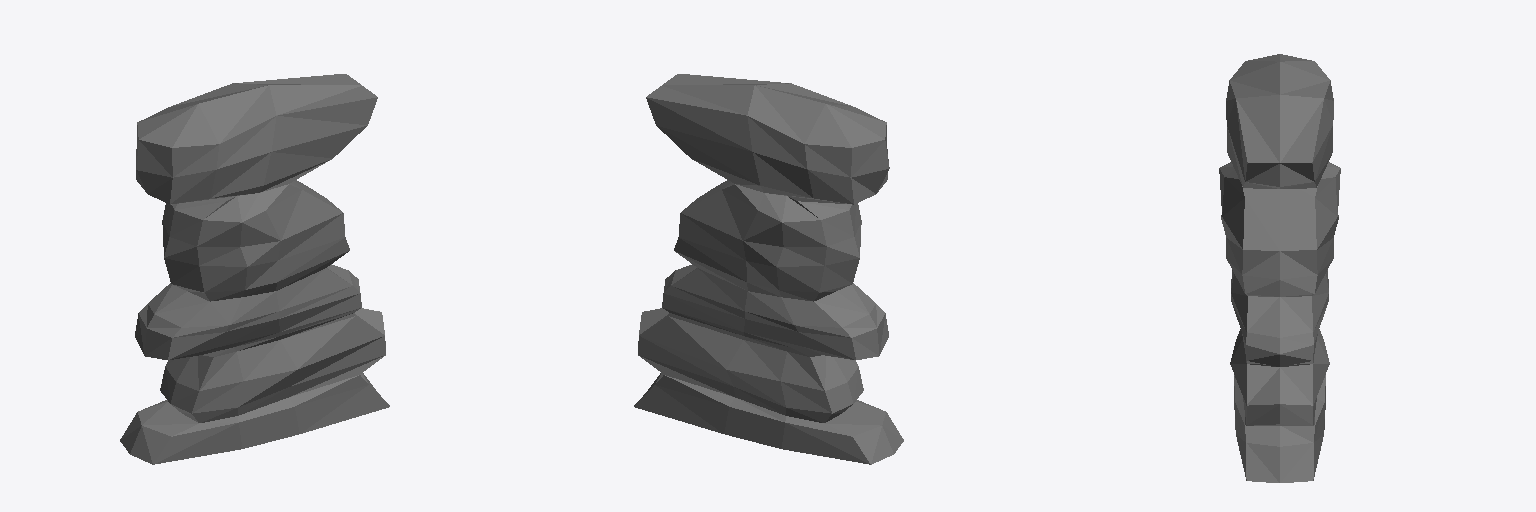
File: StoneFormation.obj
3 renders of one model, left to right at view 1: azimuth 30°, elevation 25°; view 2: azimuth 150°, elevation 25°; view 3: azimuth 270°, elevation 25°, orthographic.
Visible parts, largest first — view 1: StoneFormationLo StoneFormation_top_lo, StoneFormation_body1_lo StoneFormationLo, StoneFormationLo StoneFormationBody3_lo, StoneFormationLo StoneFormation_body2_lo, StoneFormationLo StoneFormationBottomLO; view 2: StoneFormationLo StoneFormation_top_lo, StoneFormation_body1_lo StoneFormationLo, StoneFormationLo StoneFormationBody3_lo, StoneFormationLo StoneFormation_body2_lo, StoneFormationLo StoneFormationBottomLO; view 3: StoneFormationLo StoneFormation_top_lo, StoneFormation_body1_lo StoneFormationLo, StoneFormationLo StoneFormation_body2_lo, StoneFormationLo StoneFormationBody3_lo, StoneFormationLo StoneFormationBottomLO.
Part boxes in pixels (x1,y1,x2,y2): StoneFormationLo StoneFormation_top_lo: (136, 74, 377, 204); StoneFormation_body1_lo StoneFormationLo: (162, 180, 349, 301); StoneFormationLo StoneFormationBody3_lo: (160, 308, 385, 422); StoneFormationLo StoneFormation_body2_lo: (135, 264, 361, 359); StoneFormationLo StoneFormationBottomLO: (120, 373, 389, 464); StoneFormationLo StoneFormation_top_lo: (646, 74, 889, 204); StoneFormation_body1_lo StoneFormationLo: (674, 180, 861, 301); StoneFormationLo StoneFormationBody3_lo: (638, 308, 863, 422); StoneFormationLo StoneFormation_body2_lo: (662, 264, 888, 359); StoneFormationLo StoneFormationBottomLO: (634, 373, 903, 464); StoneFormationLo StoneFormation_top_lo: (1226, 54, 1333, 188); StoneFormation_body1_lo StoneFormationLo: (1219, 162, 1340, 296); StoneFormationLo StoneFormation_body2_lo: (1231, 270, 1328, 366); StoneFormationLo StoneFormationBody3_lo: (1230, 329, 1329, 425); StoneFormationLo StoneFormationBottomLO: (1234, 375, 1325, 482).
Bounding box in the file's own units: 2.34 × 2.97 × 0.978.